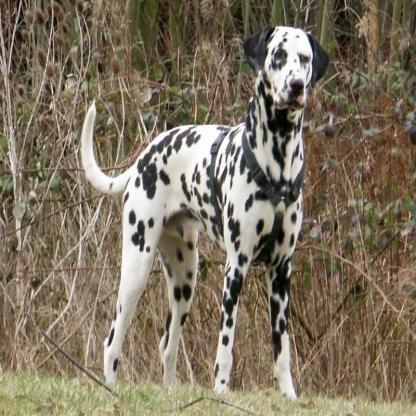Dalmatian: (74, 17, 336, 416)
